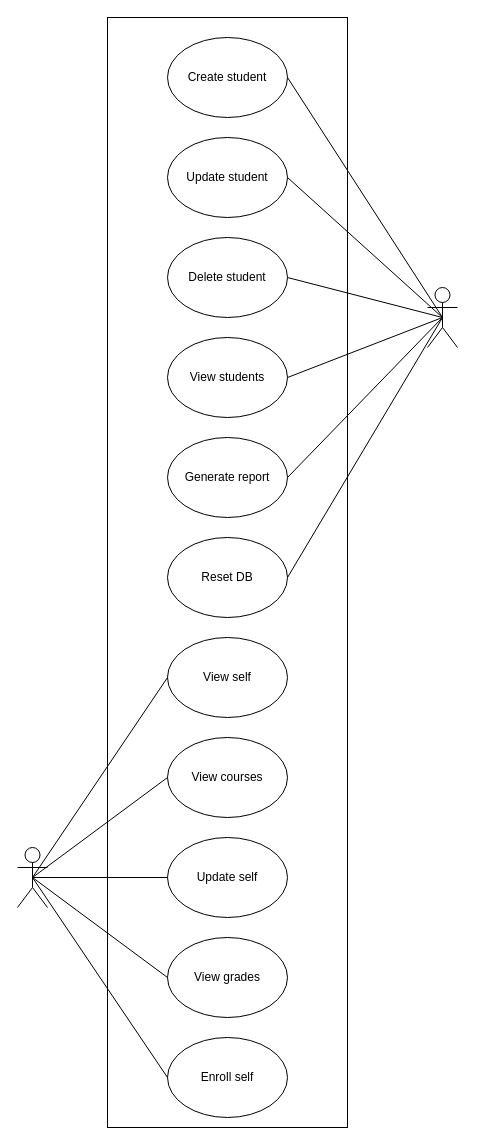
This 477x1145 diagram has some shape labels left out. Each missing label, with the centre of its shape:
"Admin" belongs at point 442,317.
"User" belongs at point 32,877.
